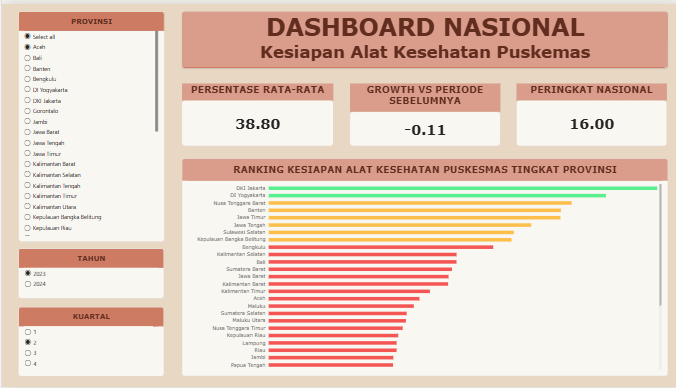

The dashboard page shown, as its layout file describes it:
{"tool":"powerbi","page":{"name":"Page 1","canvas":[1920,1080],"ordinal":0},"visuals":[{"type":"listSlicer","title":"PROVINSI","fields":{"Values":["public alkes.Nama_Wilayah"]},"box":[47.7,20.4,411.1,649.6],"z":0},{"type":"listSlicer","title":"KUARTAL","fields":{"Values":["public alkes.Periode"]},"box":[47.7,854.2,410.4,195.6],"z":1000},{"type":"cardVisual","title":"PERSENTASE RATA-RATA","fields":{"Data":["public alkes.Skor rata-rata"]},"box":[508.2,224.5,427.6,176.2],"z":2000},{"type":"cardVisual","title":"GROWTH VS PERIODE SEBELUMNYA","fields":{"Data":["public alkes.Growth_PoP%"]},"box":[982.6,224.5,424.7,176.6],"z":3000},{"type":"cardVisual","title":"PERINGKAT NASIONAL","fields":{"Data":["public alkes.Ranking_Provinsi_Terpilih"]},"box":[1452.7,224.5,424.7,176.6],"z":4000},{"type":"listSlicer","title":"TAHUN","fields":{"Values":["public alkes.Tahun"]},"box":[47.7,689.5,410.4,140.8],"z":5000},{"type":"clusteredBarChart","title":"RANKING KESIAPAN ALAT KESEHATAN PUSKESMAS TINGKAT PROVINSI","fields":{"Category":["public alkes.Nama_Wilayah"],"Y":["public alkes.Skor rata-rata"]},"box":[508.2,436.2,1372.3,614.1],"z":6000},{"type":"textbox","title":"DASHBOARD NASIONAL","box":[508.2,21.2,1372.3,160.9],"z":7000}]}

Visuals, with their boxes in screenshot pixels (x1, y1, x2, y2), scaled from the page's 1920x1080 canvas onto the 676x388 screenshot:
"PROVINSI" listSlicer: region(17, 7, 162, 241)
"KUARTAL" listSlicer: region(17, 307, 161, 377)
"PERSENTASE RATA-RATA" cardVisual: region(179, 81, 329, 144)
"GROWTH VS PERIODE SEBELUMNYA" cardVisual: region(346, 81, 495, 144)
"PERINGKAT NASIONAL" cardVisual: region(511, 81, 661, 144)
"TAHUN" listSlicer: region(17, 248, 161, 298)
"RANKING KESIAPAN ALAT KESEHATAN PUSKESMAS TINGKAT PROVINSI" clusteredBarChart: region(179, 157, 662, 377)
"DASHBOARD NASIONAL" textbox: region(179, 8, 662, 65)
